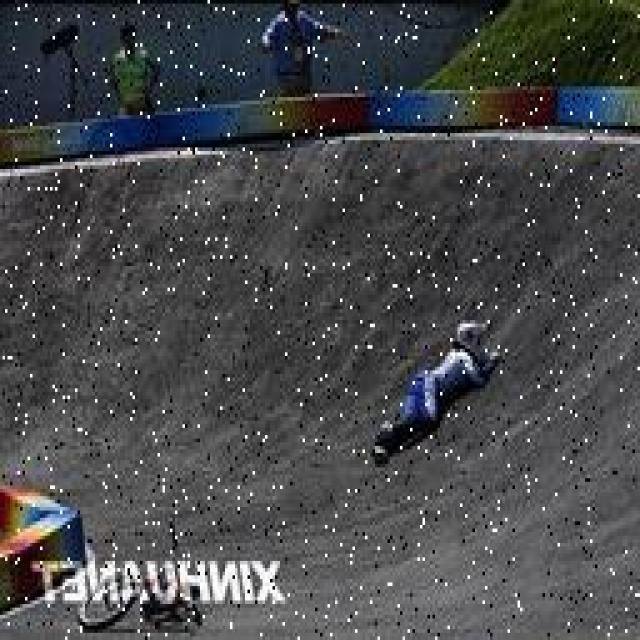fall: (368, 312, 502, 460)
